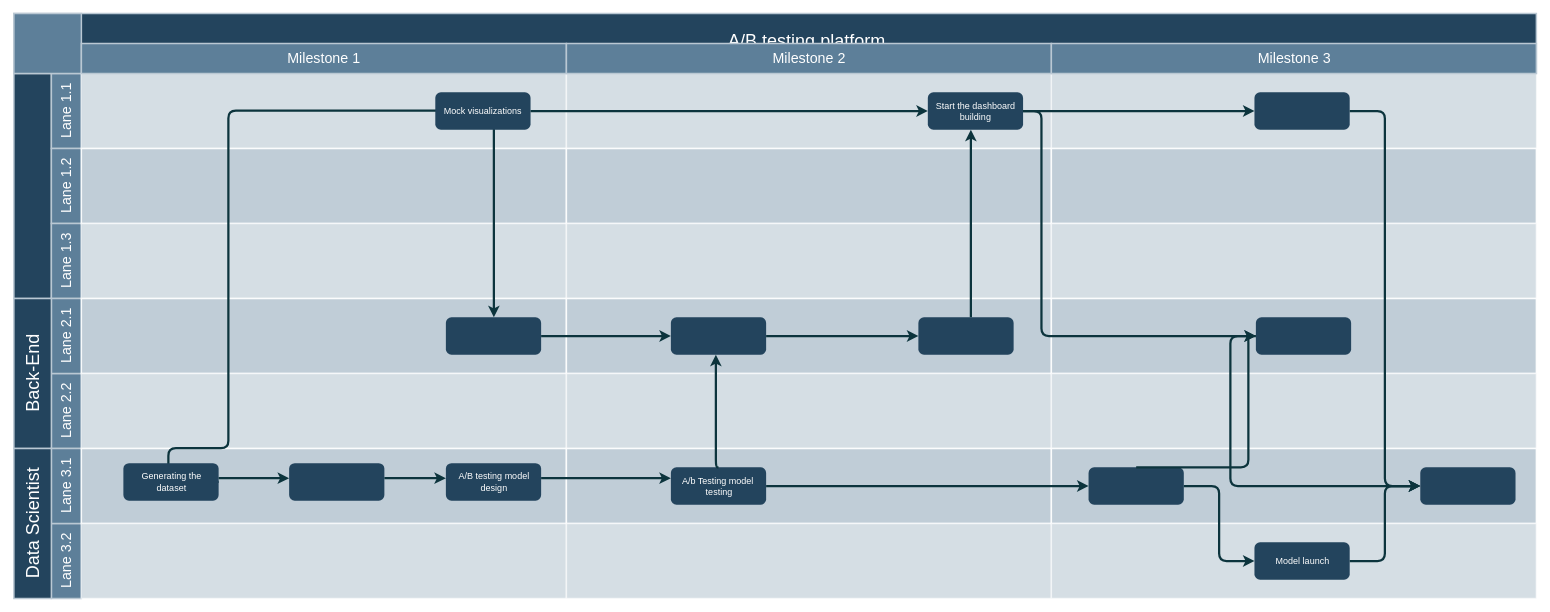
The diagram is 1550 pixels wide and 612 high, and some of its shapes have lost their labels. Each missing label, with the box of its shape:
Begin the dashboard with front-end: (918, 317, 1013, 354)
Cleaning the dataset: (289, 463, 384, 500)
Dashboard finalization: (1254, 92, 1349, 129)
Final touch ups: (1088, 467, 1183, 504)
Front-End: (13, 72, 52, 299)
Launch of the project: (1420, 467, 1515, 504)
Logical finalizations of the dashboard: (1256, 317, 1351, 354)
Logical setup: (446, 317, 541, 354)
Start applying the logic for the dashboard: (670, 317, 766, 354)
v 1.0: (13, 12, 82, 74)
